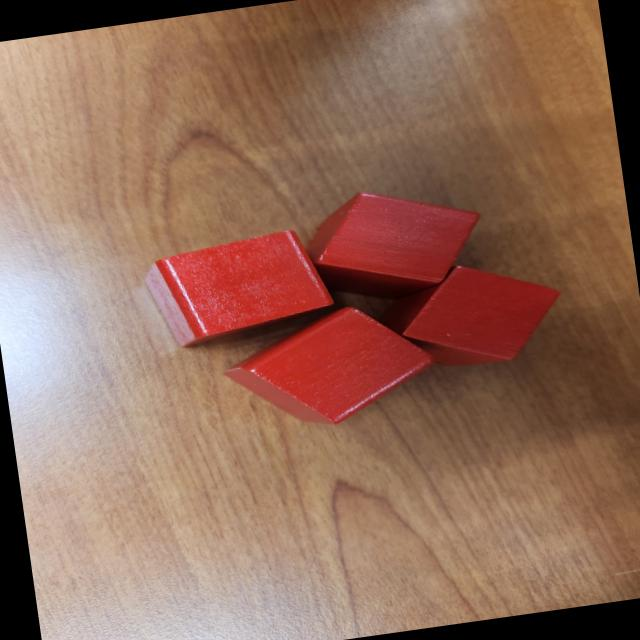red: (215, 294, 446, 440), (294, 175, 493, 310), (142, 224, 342, 356), (393, 252, 573, 379)
